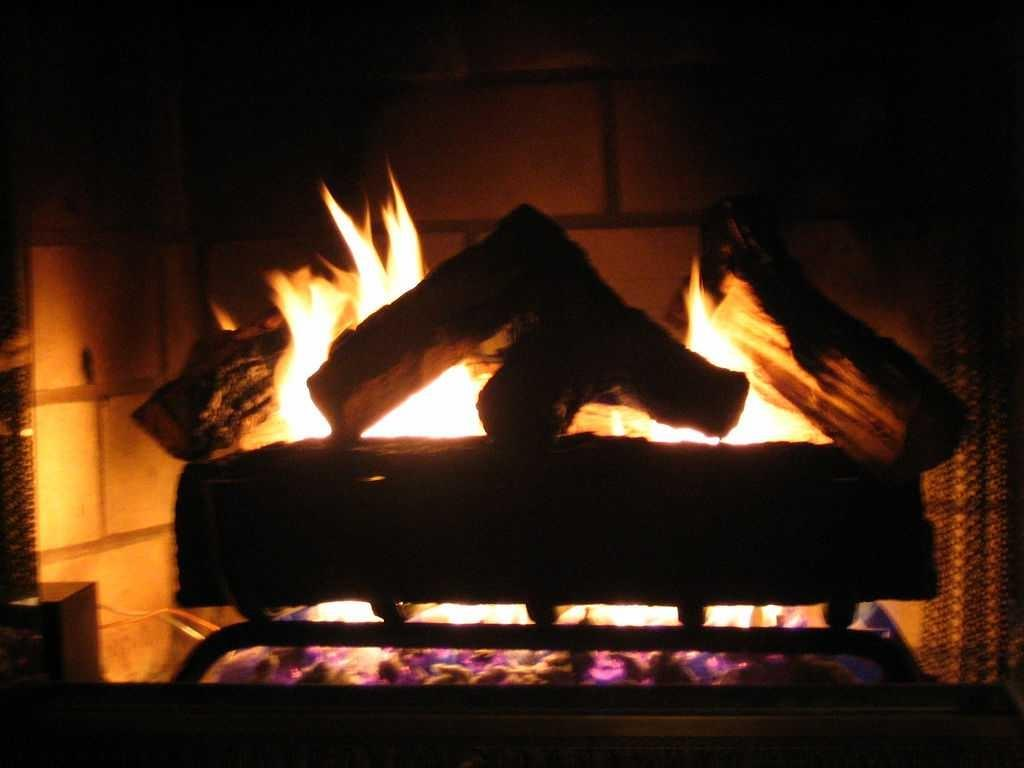fire: (422, 604, 834, 636), (408, 384, 480, 440), (288, 278, 336, 346), (284, 352, 316, 442), (744, 400, 800, 444)
